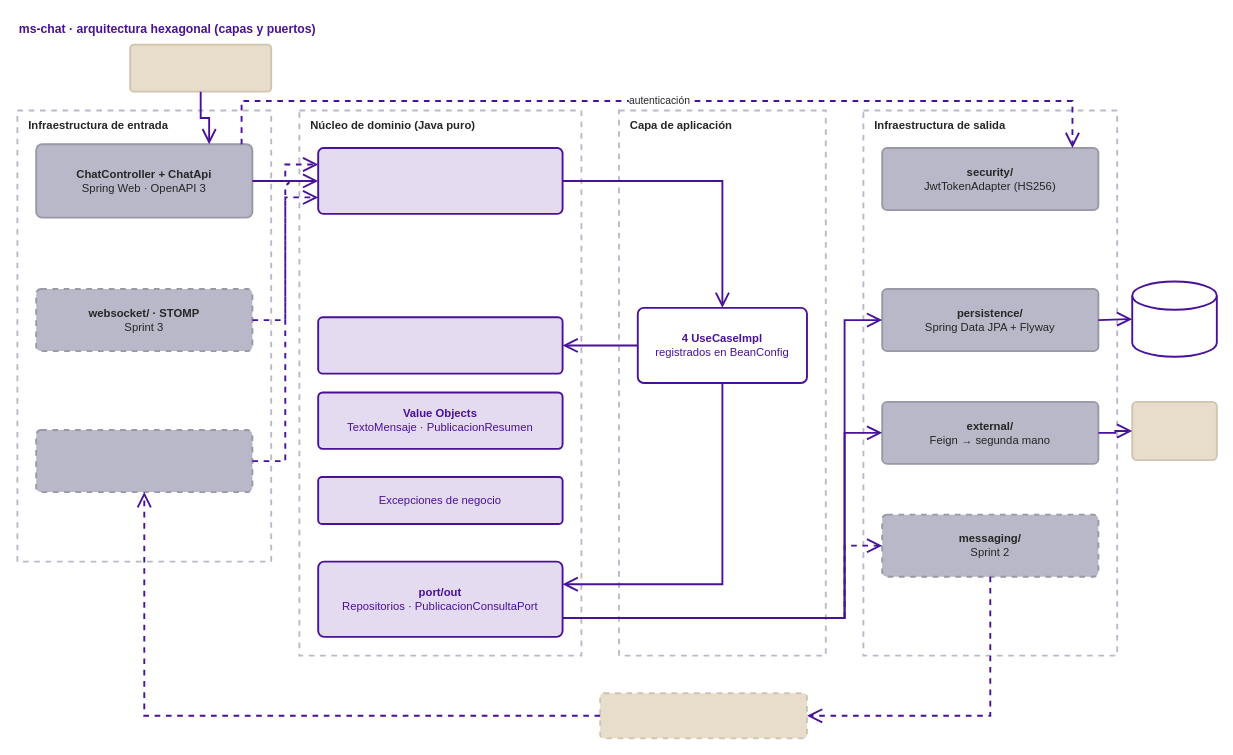
Image size: 1233x755. Some labels were removed from this diagram. Here are the shapes that lost their labels. From the top down, the centre of each, then its label:
the point at 200,67: API Gateway :8080
the point at 440,180: port/in 4 interfaces de casos de uso
the point at 1174,318: PostgreSQL chat_db
the point at 440,345: Conversacion (agregado) Mensaje
the point at 1174,430: Segunda mano
the point at 144,461: amqp/ · Listener Sprint 2
the point at 703,715: RabbitMQ Sprint 2
